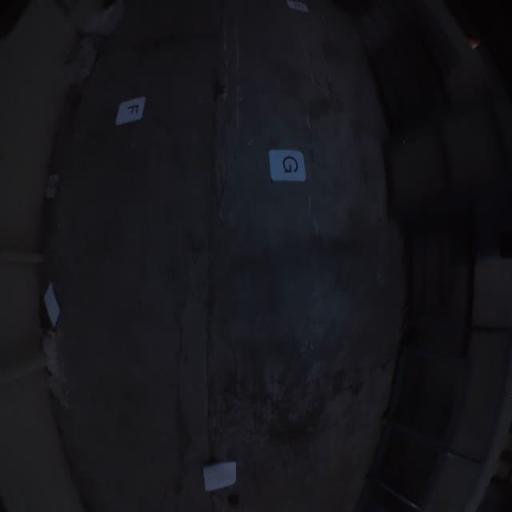F: (116, 96, 146, 126)
G: (269, 150, 306, 182)
